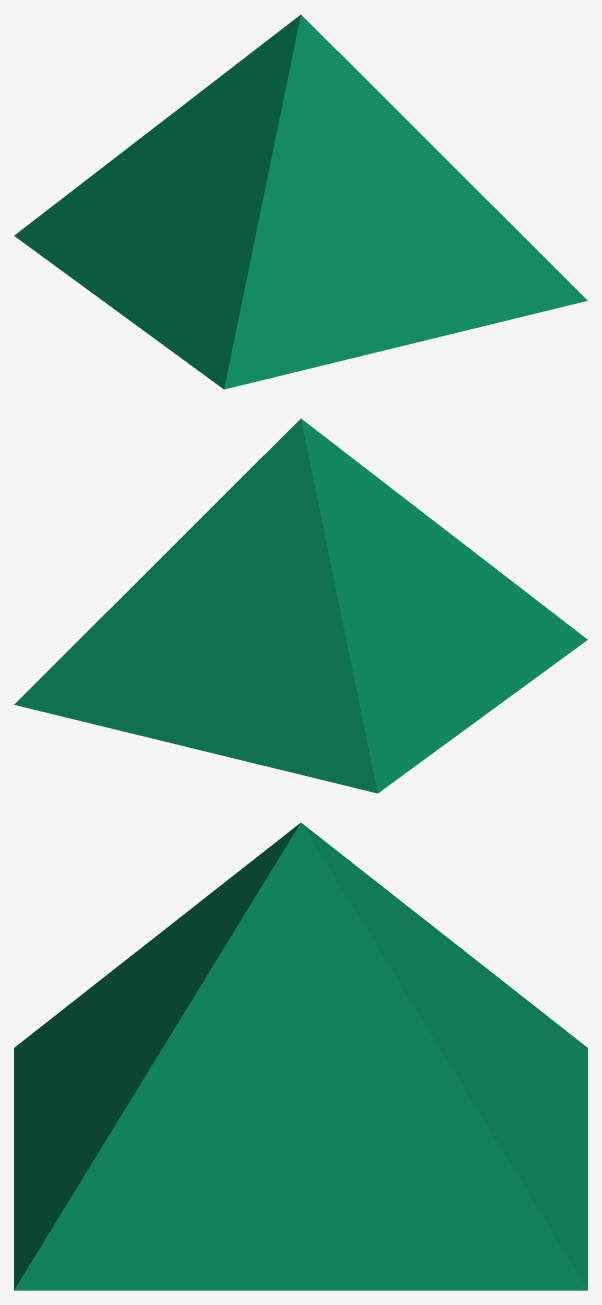
Rendered from KidsBoxH.FBX.
3 renders of one model, top to bottom at view 1: azimuth 30°, elevation 25°; view 2: azimuth 150°, elevation 25°; view 3: azimuth 270°, elevation 25°, orthographic. The views are drawn at different scales.
Parts seen in each view (by area): view 1: KidsBoxH; view 2: KidsBoxH; view 3: KidsBoxH.
Boxes of the visible parts, <box> form: KidsBoxH: <box>14,14,587,389</box>; KidsBoxH: <box>14,418,587,793</box>; KidsBoxH: <box>14,823,587,1290</box>.
Bounding box in the file's own units: 15 × 10 × 15.
